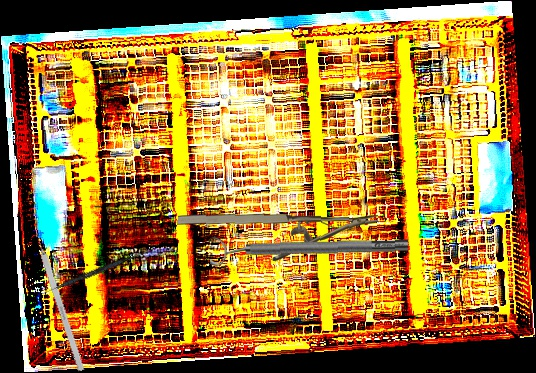Fixation Ring: (209, 230, 409, 267)
Hook Surgical: (31, 225, 85, 372)
Needle Holder: (176, 208, 379, 265)
Spatula Surgical: (36, 248, 145, 300)
